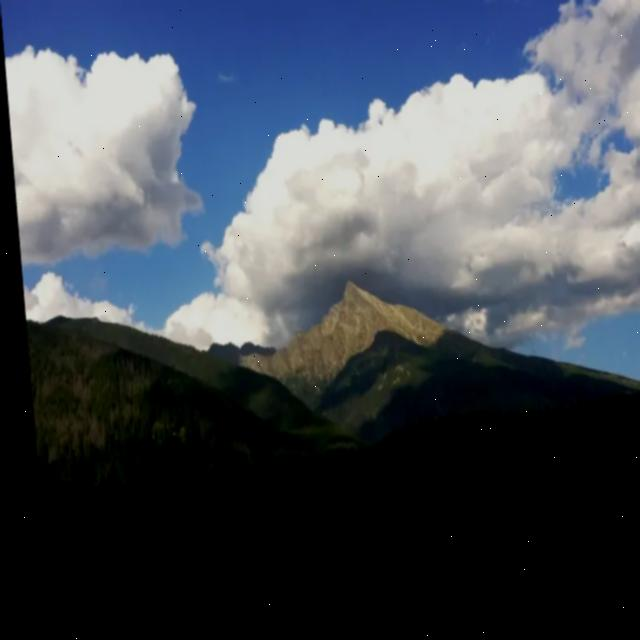Krivan: (273, 208, 426, 358)
